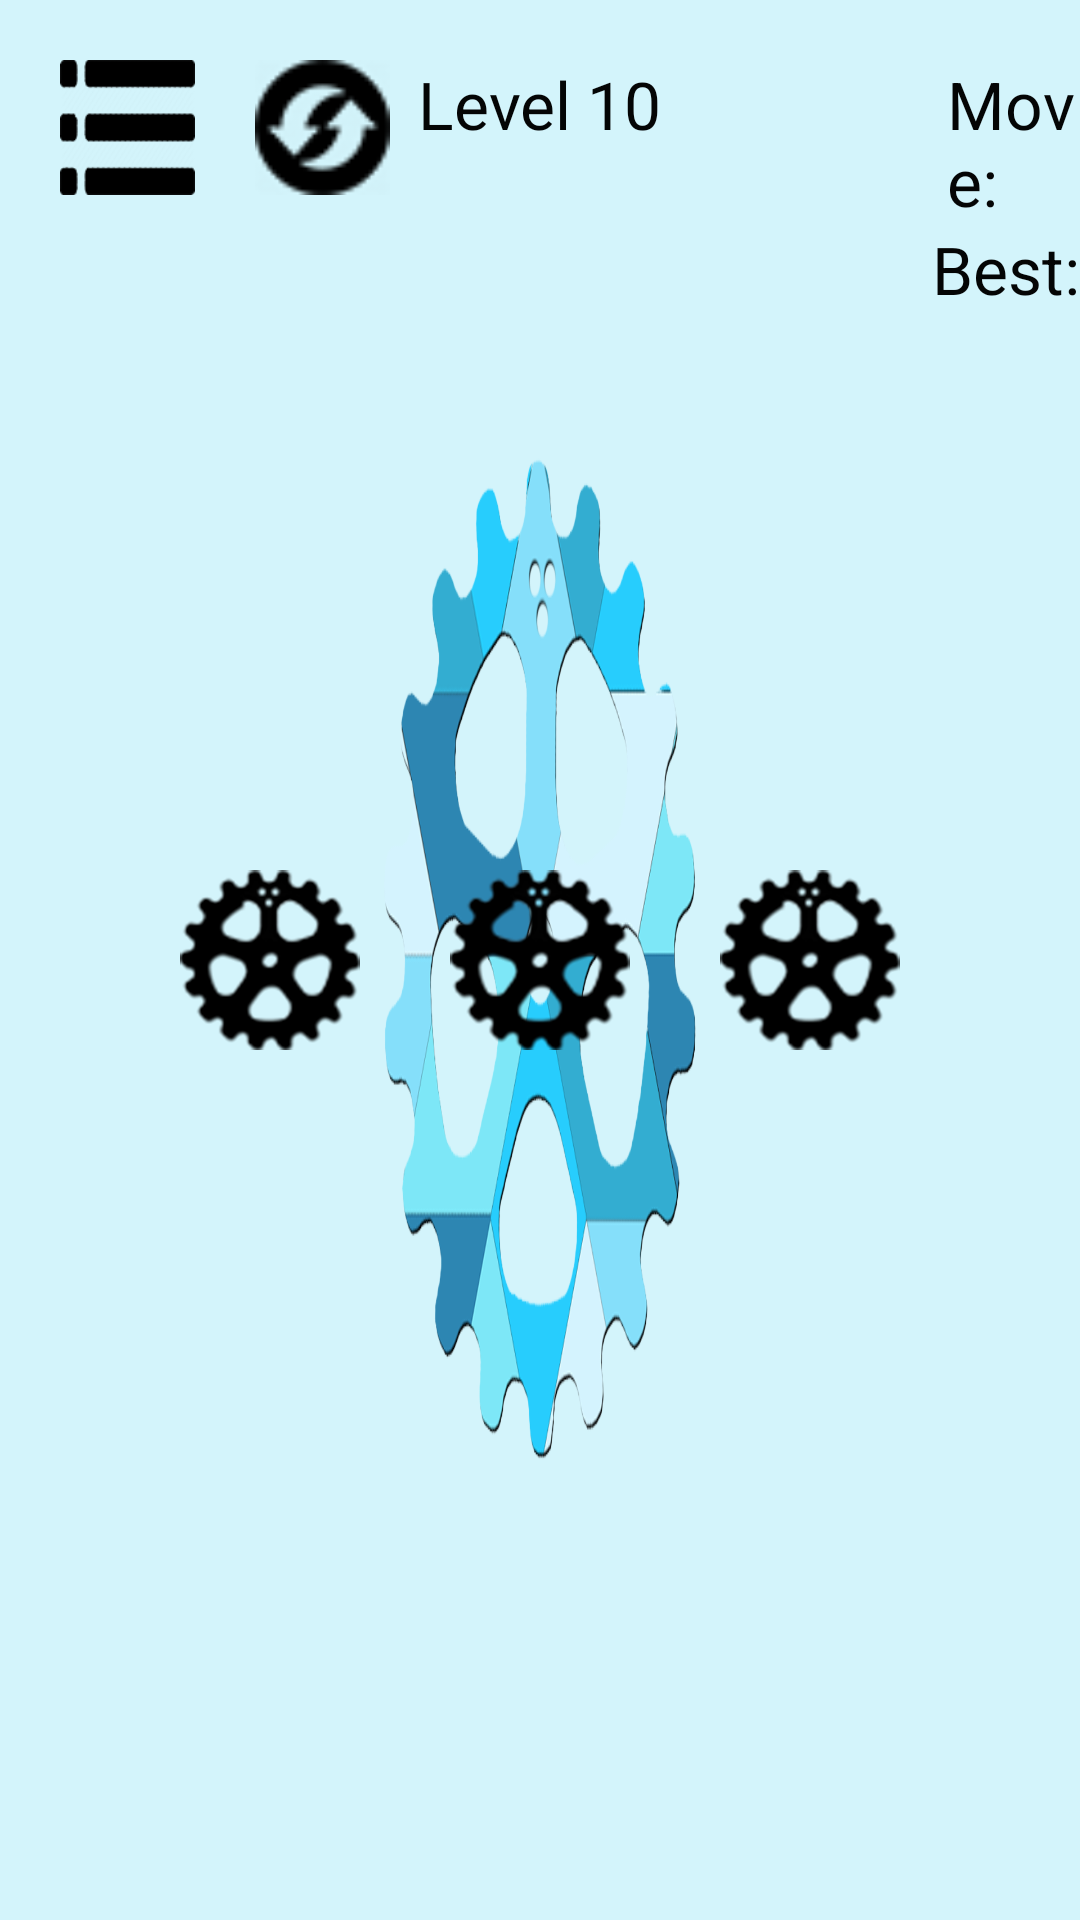

Named icons in this screenshot (1080×1920) and their bounding boxes, (x1=x1, y1=y1, x2=x2, y2=y2):
gearlvl: (x1=180, y1=870, x2=360, y2=1050), (x1=450, y1=870, x2=630, y2=1050), (x1=720, y1=870, x2=900, y2=1050)
menusymbol: (x1=60, y1=60, x2=195, y2=195)
refresh: (x1=255, y1=60, x2=390, y2=195)
